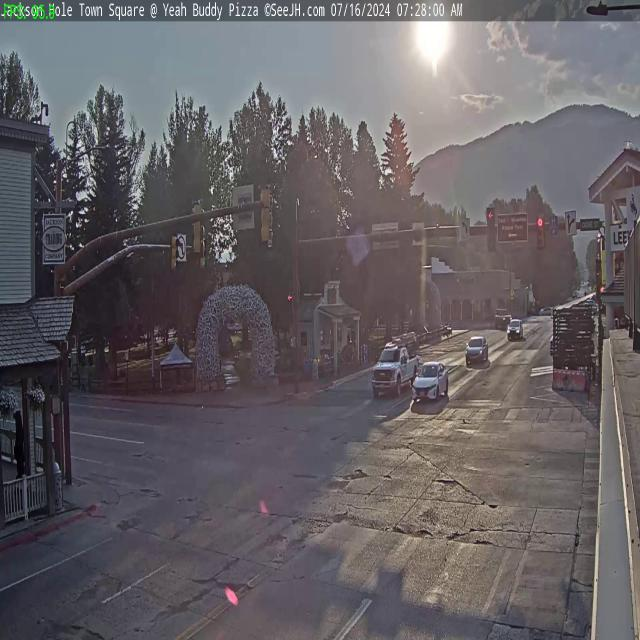pickup: (370, 344, 420, 396)
sedan: (413, 359, 449, 402), (464, 333, 488, 366), (508, 318, 524, 339)
traffic light: (260, 184, 273, 245), (190, 199, 203, 256), (168, 230, 180, 272), (486, 208, 496, 254), (536, 215, 544, 248)
